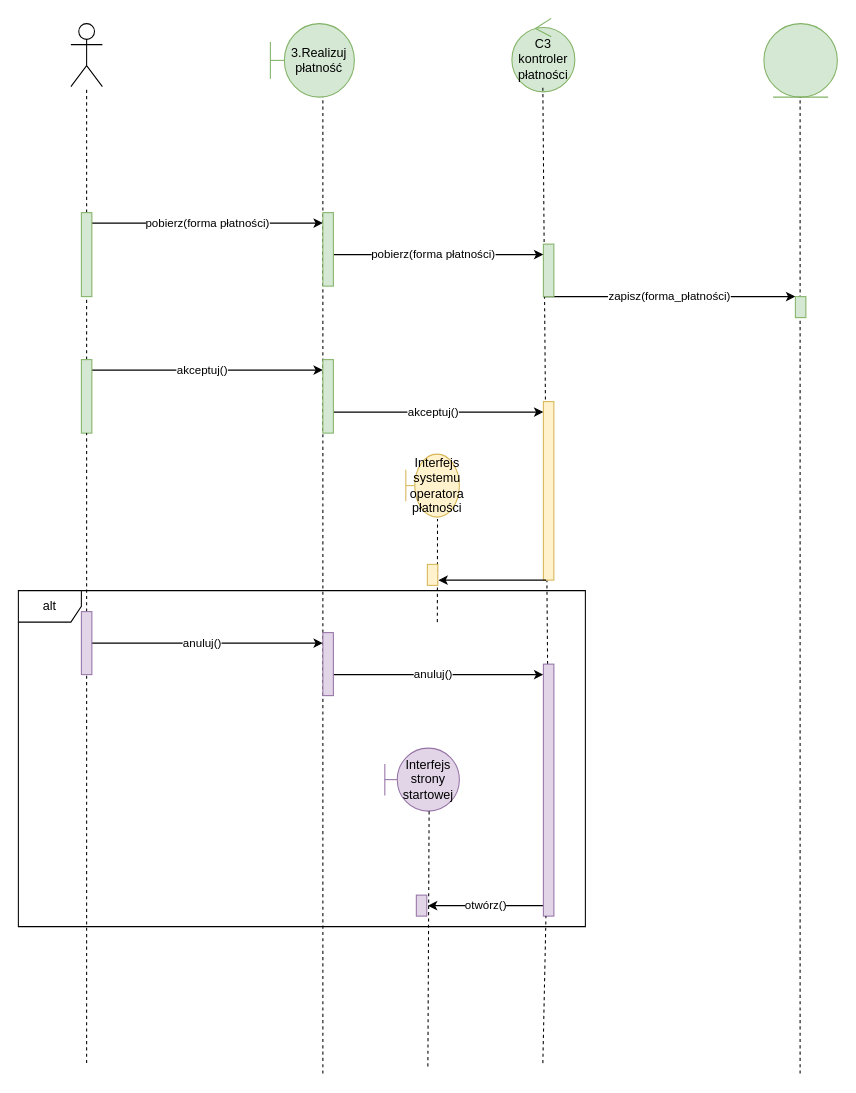
Image size: 856x1093. Some labels were removed from this diagram. The shapes that lost their labels are listed below. From the top down, each one's centre as x and y in pixels, then its label:
At pixel 86 55: "Kursant".
At pixel 800 60: "Zamówienie".
